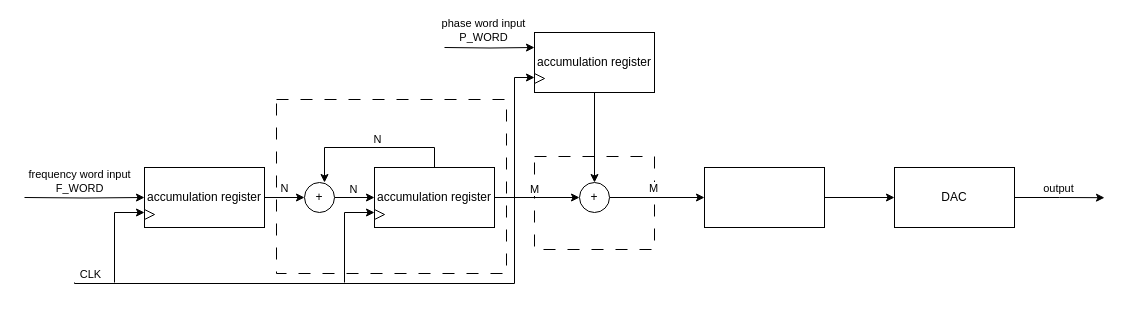
Image size: 1130x309. Some labels were removed from this diagram. The shapes that lost their labels are listed below. From the top down, each one's box as (x1, y1, x2, y2) in pixels, then its label:
(276, 98, 506, 274): phase accumulator
(534, 156, 654, 250): phase modulator
(704, 166, 824, 228): waveform data table ROM
